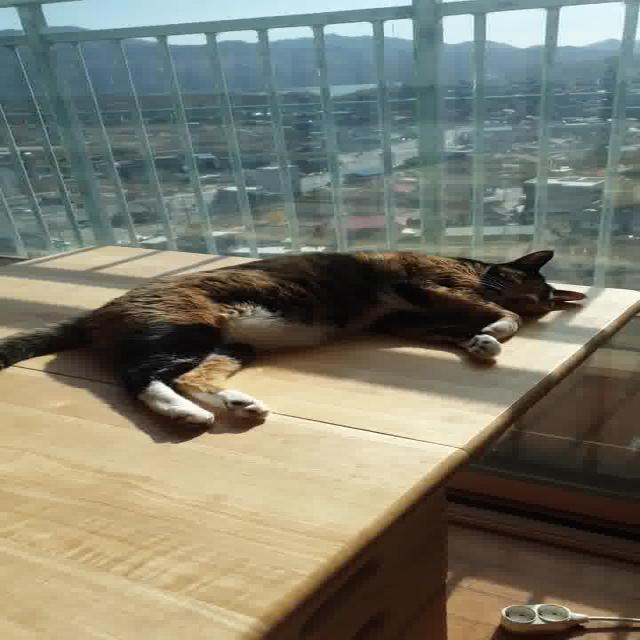cat: (0, 244, 612, 434)
